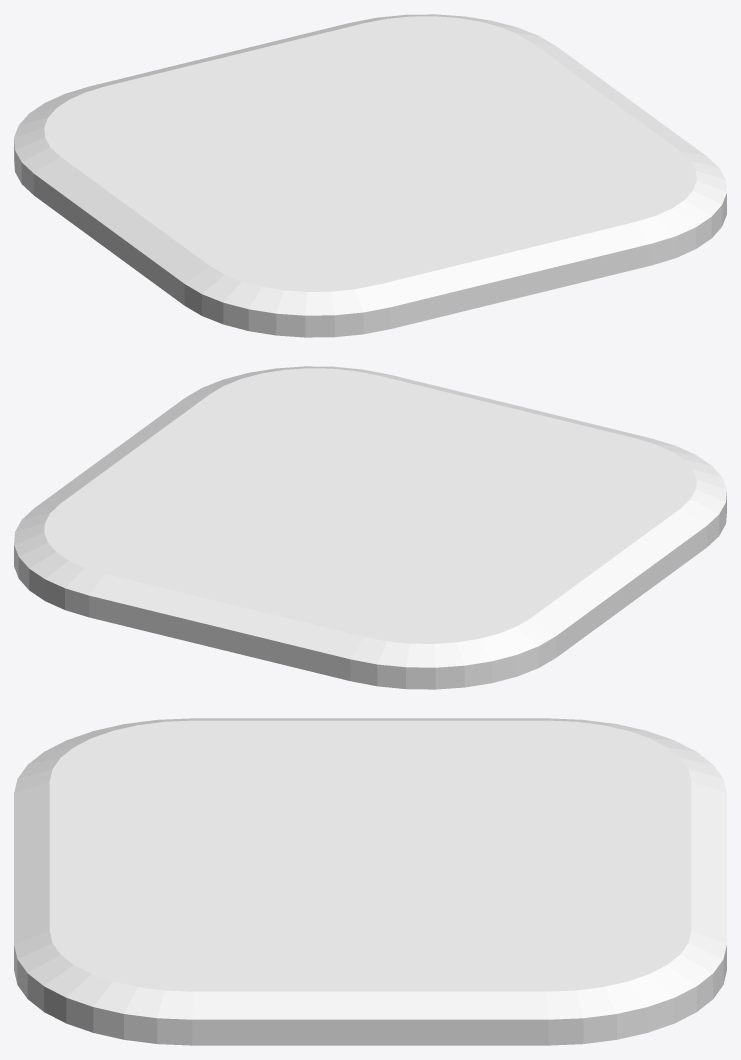
The model's file is ExpansionIcon.glb.
3 views of the same model, one above another, from view 1: azimuth 30°, elevation 25°; view 2: azimuth 150°, elevation 25°; view 3: azimuth 270°, elevation 25° (orthographic). The views are drawn at different scales.
Visible parts, largest first — view 1: Circle; view 2: Circle; view 3: Circle.
Part boxes in pixels (left/top/right/bottom): Circle: left=14, top=14, right=726, bottom=337; Circle: left=14, top=366, right=726, bottom=689; Circle: left=14, top=718, right=726, bottom=1045.
Bounding box in the file's own units: 1 × 0.06 × 1.
1 material, 1 textured.
